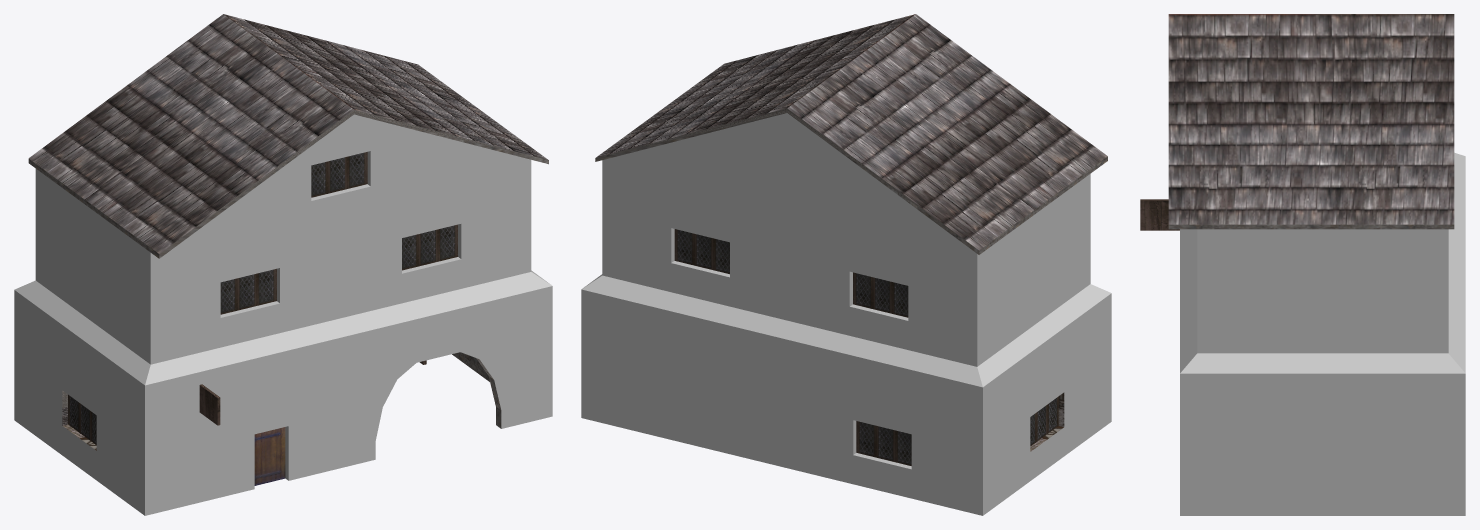
File: Shop.fbx
The picture shows the model from 3 angles, left to right: view 1: azimuth 30°, elevation 25°; view 2: azimuth 150°, elevation 25°; view 3: azimuth 270°, elevation 25°; orthographic projection. The views are drawn at different scales.
Visible parts, largest first — view 1: Shop; view 2: Shop; view 3: Shop.
Part boxes in pixels (x1=…): Shop: x1=14, y1=14, x2=552, y2=515; Shop: x1=581, y1=14, x2=1111, y2=515; Shop: x1=1140, y1=14, x2=1465, y2=515.
Bounding box in the file's own units: 1800 × 1520 × 1139.
